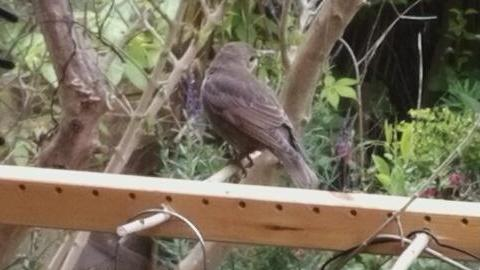starling: (200, 41, 320, 189)
